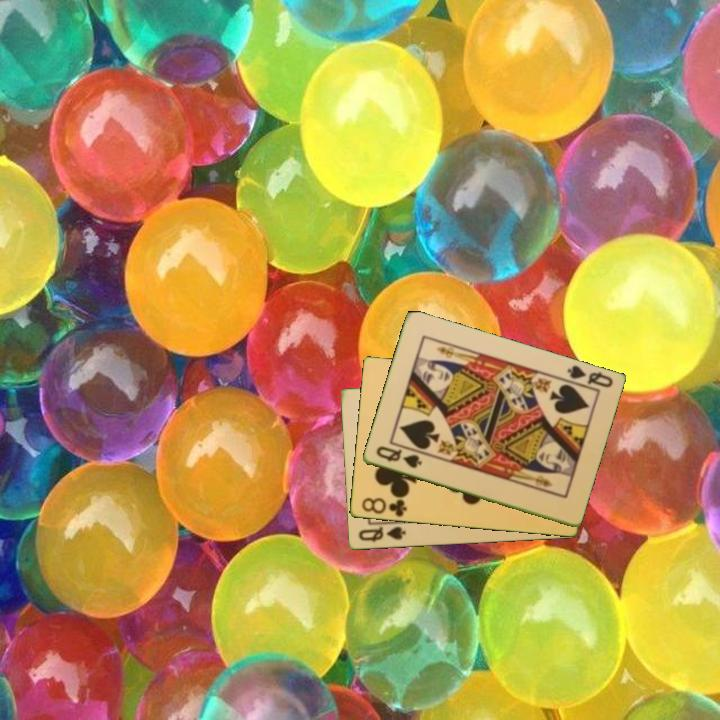8c: (358, 494, 410, 520)
Qs: (560, 362, 616, 394), (372, 443, 424, 471), (355, 523, 408, 545)
